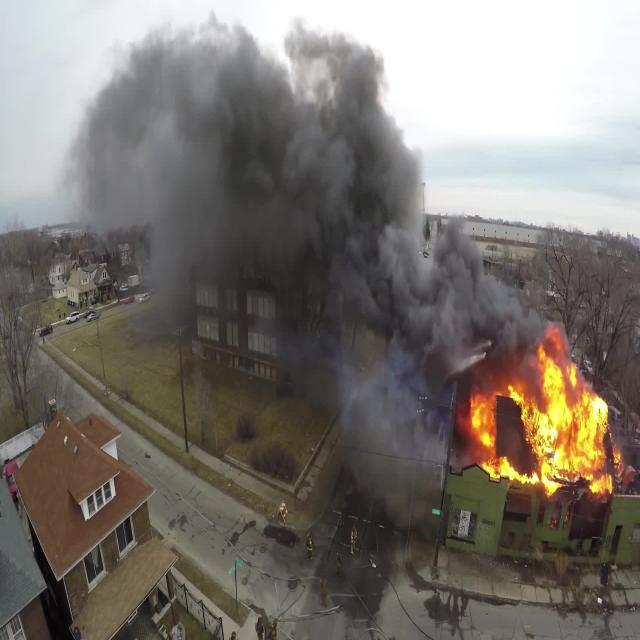Fire: (458, 320, 626, 505)
Smoke: (82, 21, 610, 484)
